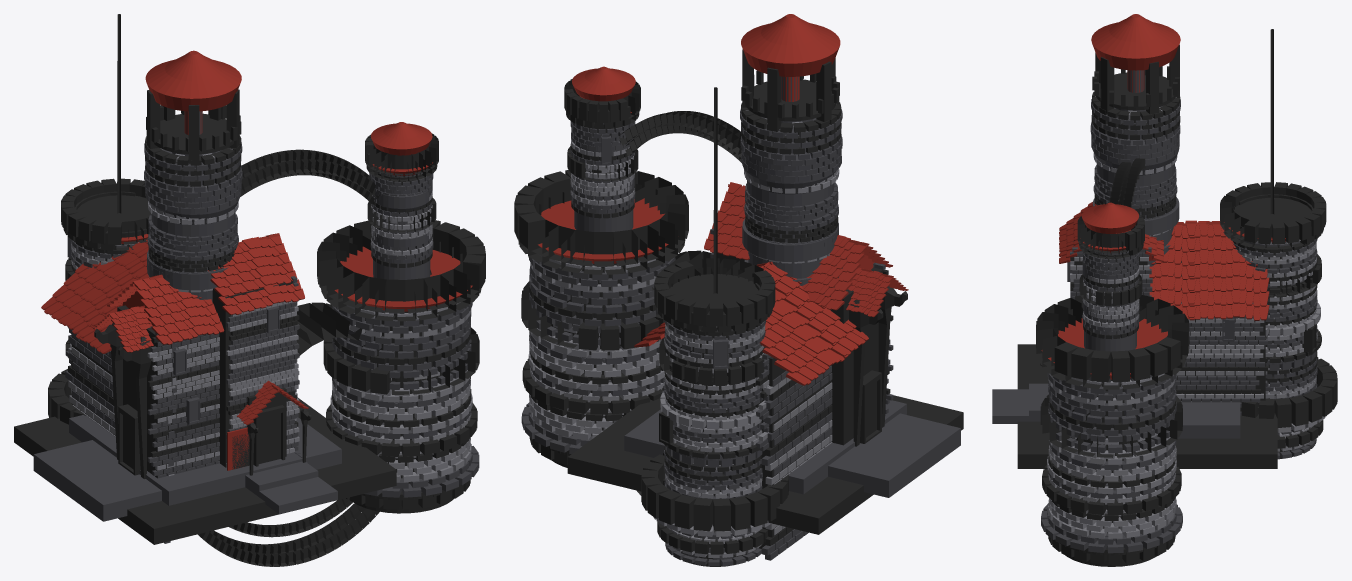
File: CastleKeep.fbx
3 renders of one model, left to right at view 1: azimuth 30°, elevation 25°; view 2: azimuth 150°, elevation 25°; view 3: azimuth 270°, elevation 25°, orthographic. The views are drawn at different scales.
Visible parts, largest first — view 1: CastleKeep, Door_KeepFrame; view 2: CastleKeep; view 3: CastleKeep.
Part boxes in pixels (x1,y1,x2,y2): CastleKeep: (14,14,485,566); Door_KeepFrame: (227,427,249,470); CastleKeep: (514,14,963,566); CastleKeep: (992,14,1337,566).
Bounding box in the file's own units: 3091 × 3925 × 2512.
